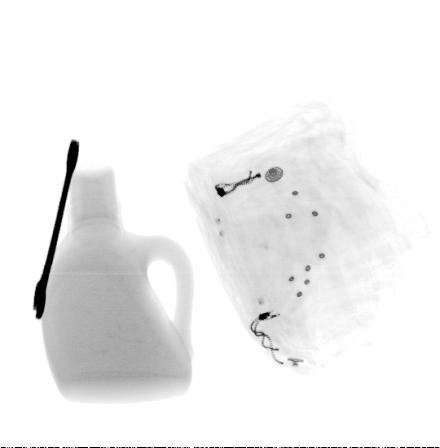Wrench: (32, 136, 80, 323)
